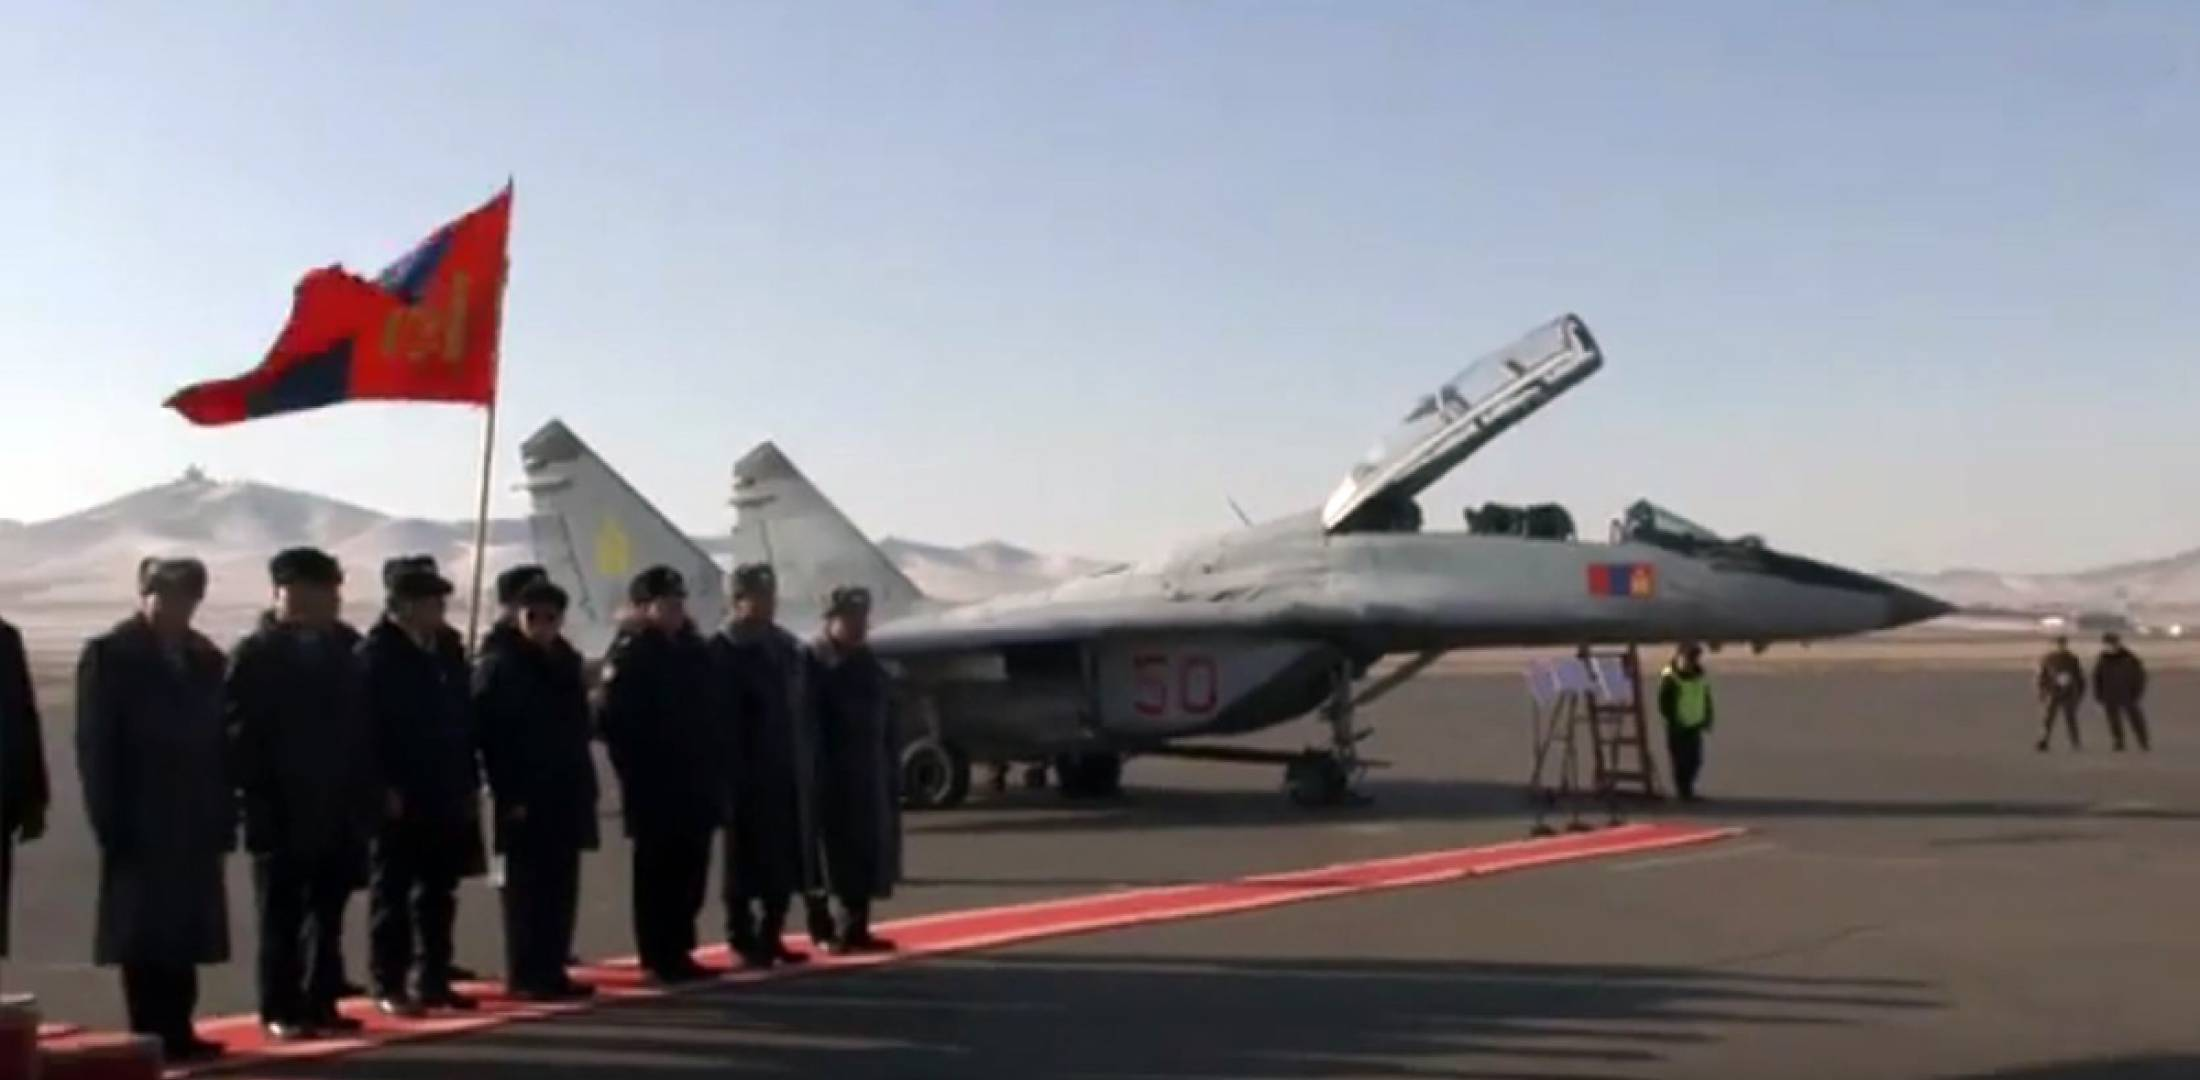Mig-29: (487, 356, 1949, 849)
